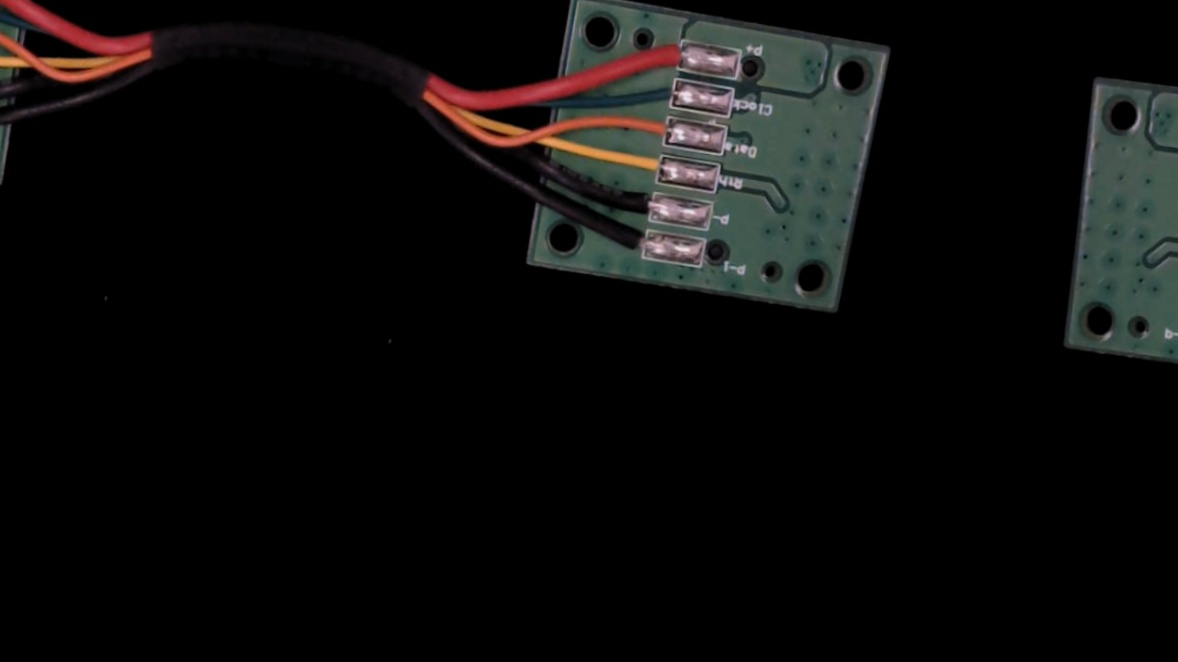Black: (604, 183, 674, 224)
Black1: (593, 220, 666, 262)
Green: (624, 73, 693, 113)
Orange: (616, 107, 687, 147)
Red: (630, 34, 700, 75)
Yellow: (615, 149, 680, 184)
